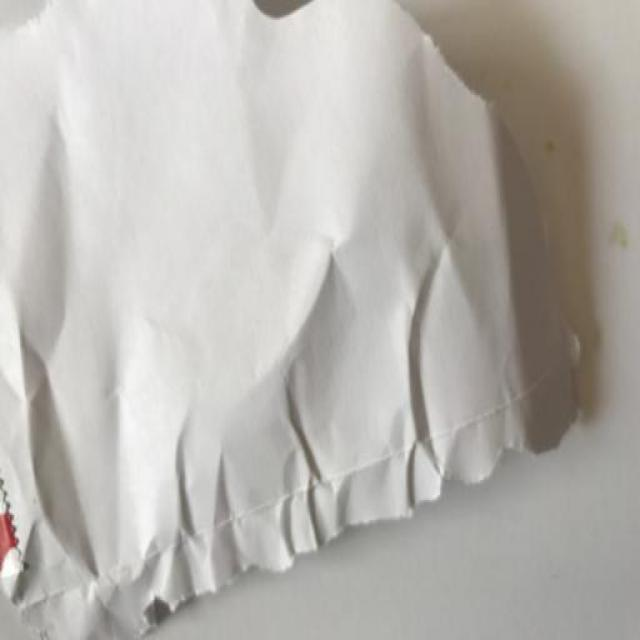paper: (2, 5, 586, 635)
